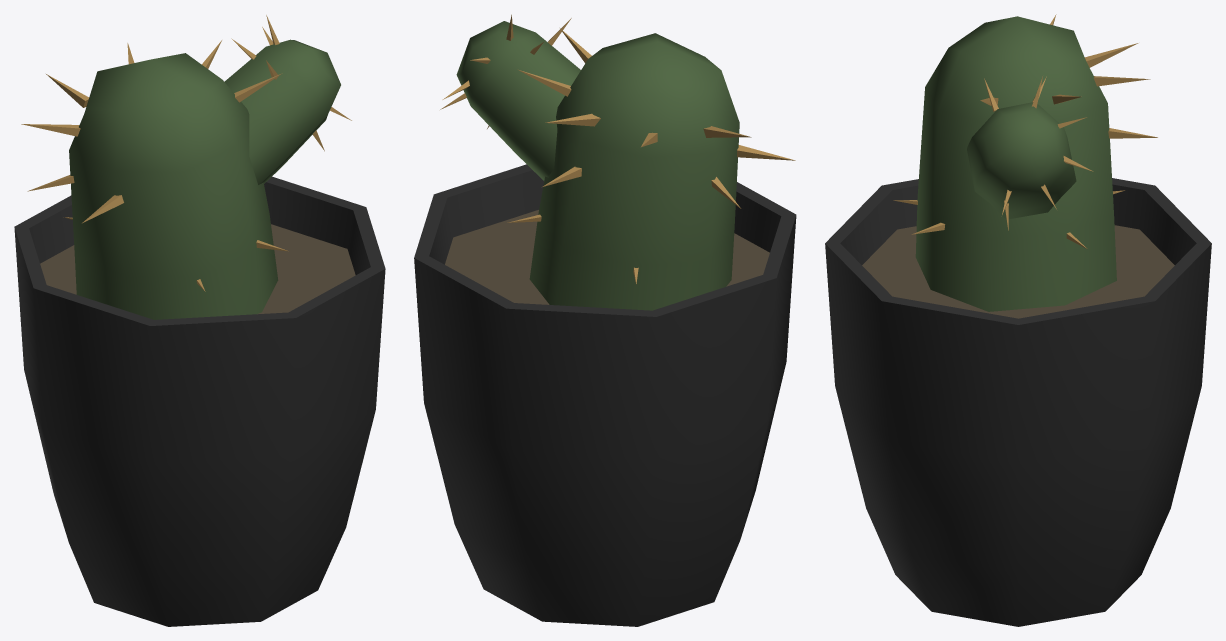
File: plant-cactus-pot.glb
3 renders of one model, left to right at view 1: azimuth 30°, elevation 25°; view 2: azimuth 150°, elevation 25°; view 3: azimuth 270°, elevation 25°, orthographic. The views are drawn at different scales.
Visible parts, largest first — view 1: Houseplant_2; view 2: Houseplant_2; view 3: Houseplant_2.
Part boxes in pixels (x1=…): Houseplant_2: x1=14, y1=15, x2=385, y2=626; Houseplant_2: x1=414, y1=14, x2=796, y2=626; Houseplant_2: x1=825, y1=14, x2=1211, y2=626.
Size of the model in its own units: 0.2506 by 0.3849 by 0.2506.
